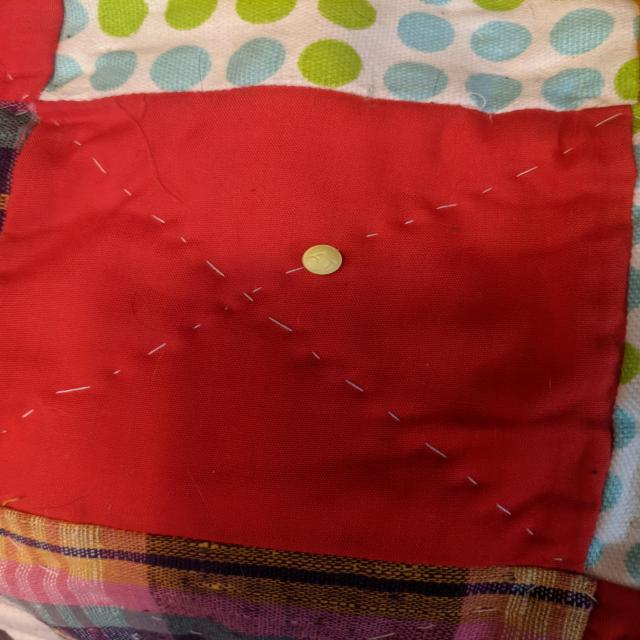non-organic waste: (301, 244, 343, 275)
